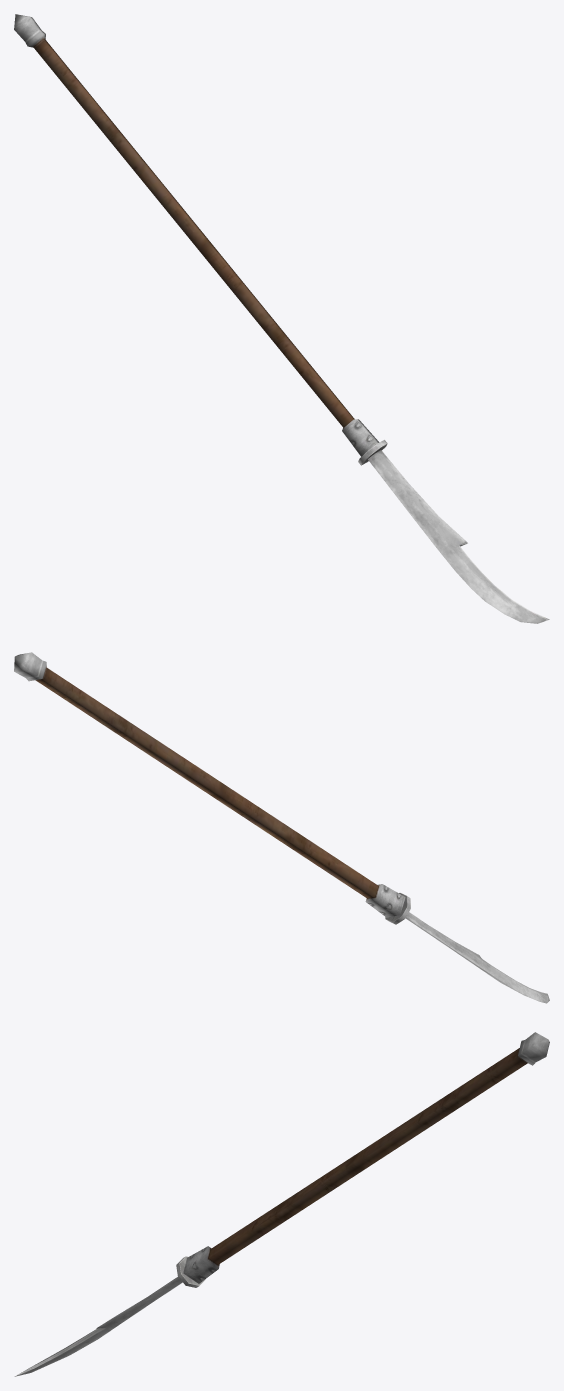
The model's file is rider-weapon-slice-base.glb.
The picture shows the model from 3 angles, top to bottom: view 1: azimuth 90°, elevation 25°; view 2: azimuth 150°, elevation 25°; view 3: azimuth 270°, elevation 25°; orthographic projection.
Bounding box in the file's own units: 0.9639 × 1.49 × 1.53.
Materials: 1 (1 with a texture image).
